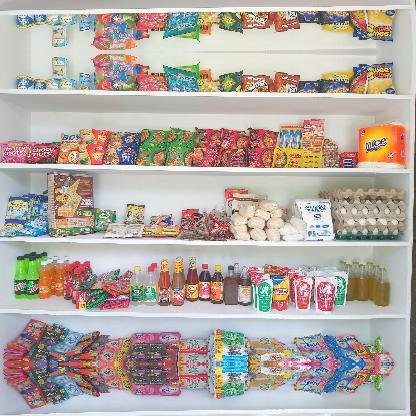Koko-Krunch: (46, 171, 96, 240)
